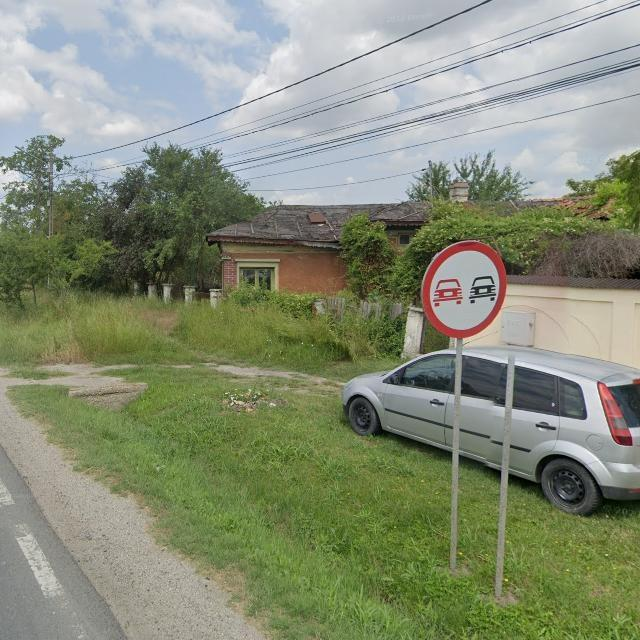forb_overtake: (421, 240, 508, 338)
